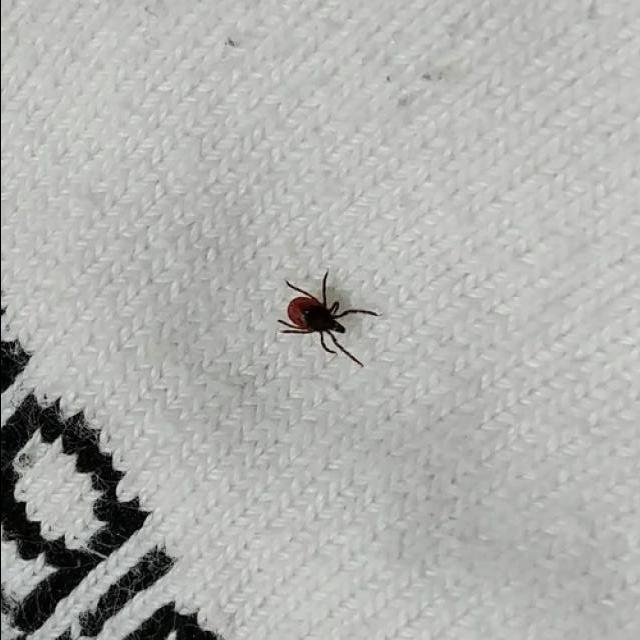Ixodes Ricinus-F: (276, 276, 381, 369)
